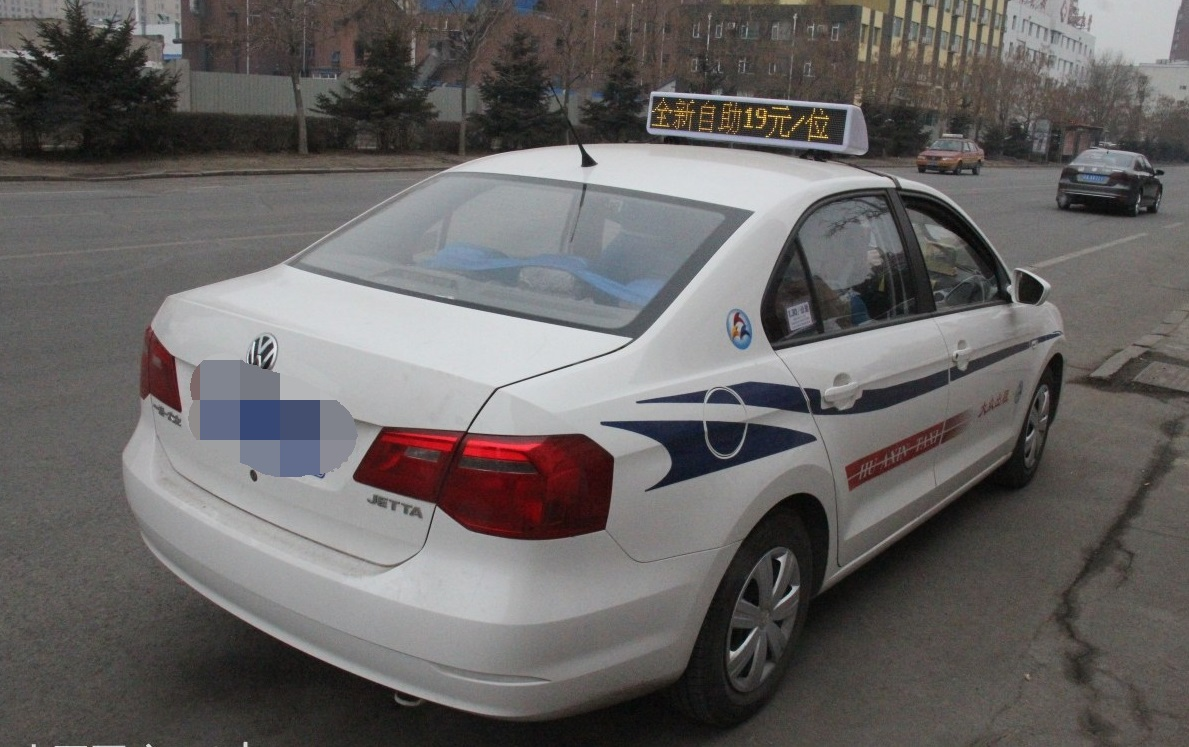taxi: (113, 87, 1072, 747)
